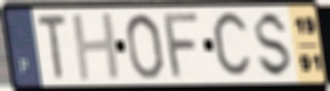C: (210, 8, 255, 83)
F: (163, 11, 203, 81)
H: (69, 10, 124, 84)
O: (124, 12, 166, 81)
S: (254, 10, 294, 81)
T: (35, 13, 69, 82)
